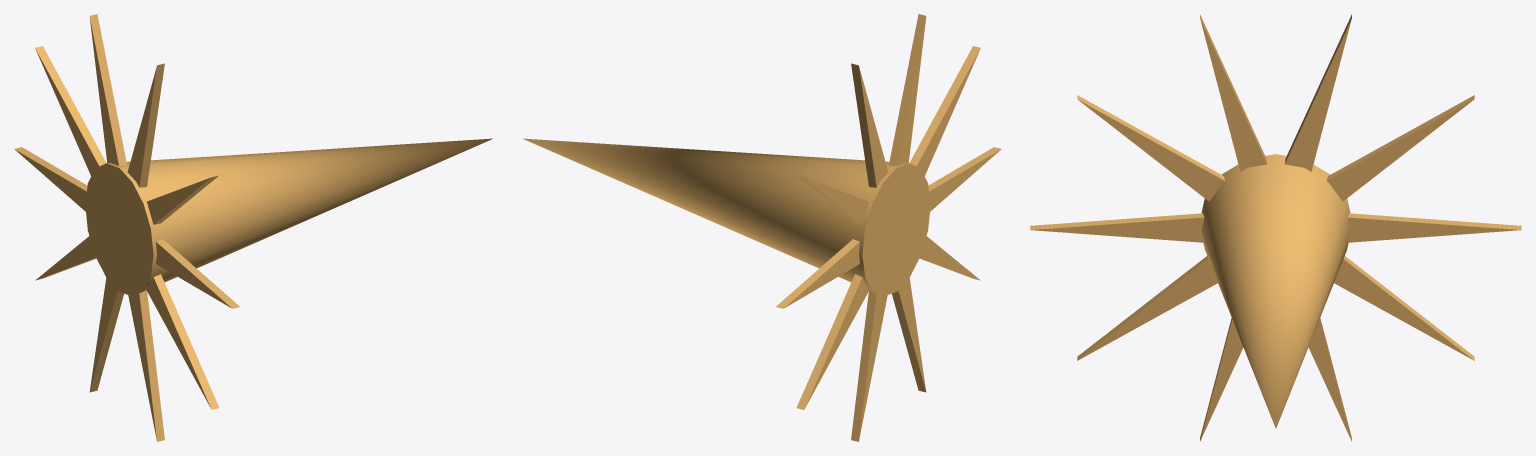
The model's file is clarao.obj.
The picture shows the model from 3 angles, left to right: view 1: azimuth 30°, elevation 25°; view 2: azimuth 150°, elevation 25°; view 3: azimuth 270°, elevation 25°; orthographic projection. The views are drawn at different scales.
Bounding box in the file's own units: 0.38 × 0.3652 × 0.384.
